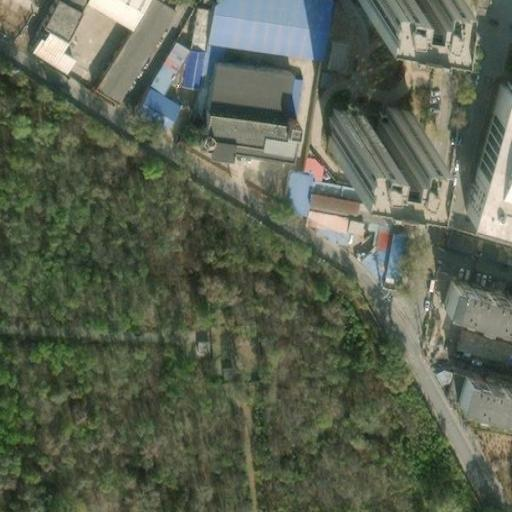building: (457, 80, 512, 225), (89, 0, 166, 95), (201, 0, 322, 55), (192, 103, 292, 162), (278, 166, 374, 227), (198, 57, 283, 115), (322, 101, 404, 154), (432, 274, 512, 325), (18, 0, 74, 65), (448, 370, 512, 415), (124, 76, 179, 126), (452, 325, 512, 365), (140, 31, 183, 85), (176, 43, 207, 91), (381, 227, 407, 283), (323, 37, 350, 71)
